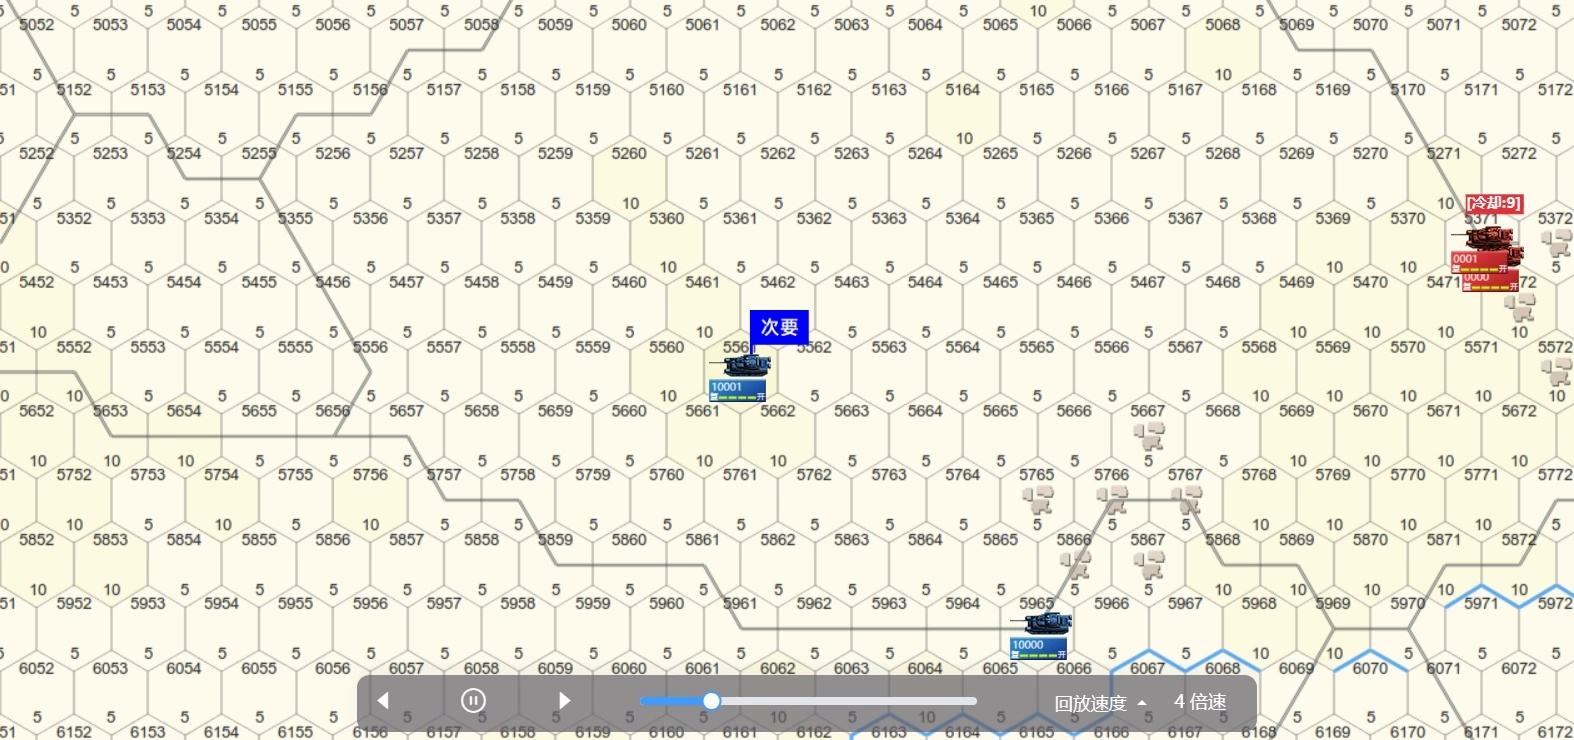blue_tank: (708, 346, 778, 399), (1006, 607, 1074, 653)
red_tank: (1460, 230, 1522, 286)
